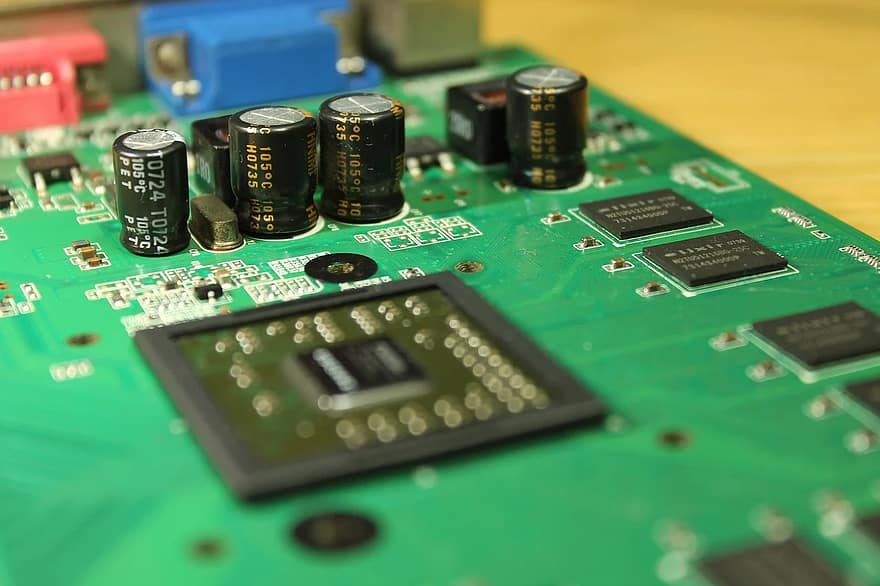capacitor: (502, 49, 616, 209), (309, 80, 407, 222), (110, 123, 199, 257)
